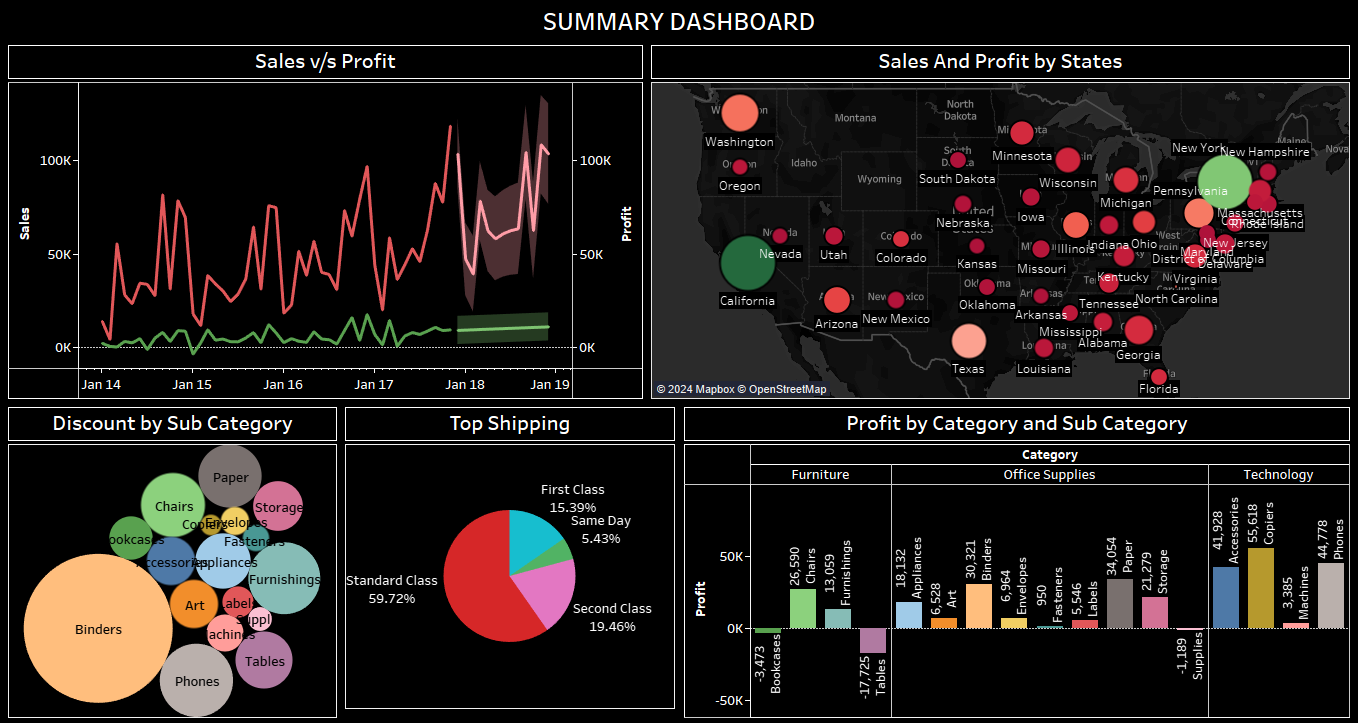

This screenshot's page, from the dashboard's own definition file:
{"tool":"tableau","page":{"name":"Dashboard","canvas":[1000,1000],"units":"permille","ordinal":0},"visuals":[{"type":"text","box":[6.9,13.7,986.1,54.5]},{"type":"worksheet","title":"Line Chart","mark":"Automatic","rows":["Sales","Profit"],"cols":["Order Date"],"box":[6.9,68.2,470,488.1]},{"type":"worksheet","title":"Map","mark":"Automatic","box":[476.9,68.2,516.1,488.1]},{"type":"worksheet","title":"Bubbles","mark":"Circle","box":[6.9,556.3,246.3,430]},{"type":"worksheet","title":"Pie Chart 1","mark":"Pie","box":[253.2,556.3,247.1,430]},{"type":"worksheet","title":"Bar Chart","mark":"Automatic","rows":["Profit"],"cols":["Category","Sub-Category"],"box":[500.4,556.3,492.7,430]}]}

Visuals, with their boxes on the dashboard's canvas, which has no fixed pixel size, in thousandths of its width and height (x1, y1, x2, y2). These are canvas units, not pixel positions in the 1358x723 screenshot, which may show the page scaled, cropped or inside an application window:
text: [left=7, top=14, right=993, bottom=68]
"Line Chart" worksheet: [left=7, top=68, right=477, bottom=556]
"Map" worksheet: [left=477, top=68, right=993, bottom=556]
"Bubbles" worksheet (Circle marks): [left=7, top=556, right=253, bottom=986]
"Pie Chart 1" worksheet (Pie marks): [left=253, top=556, right=500, bottom=986]
"Bar Chart" worksheet: [left=500, top=556, right=993, bottom=986]
